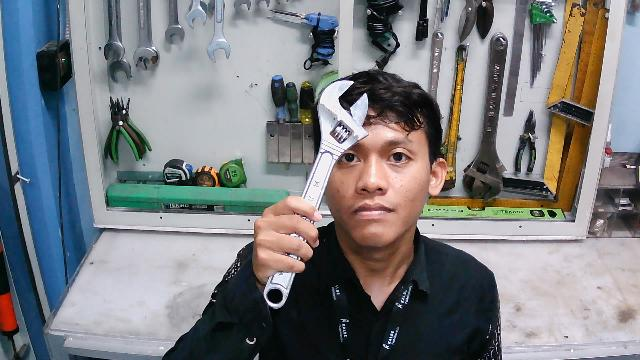kunci_inggris: (263, 78, 370, 314)
